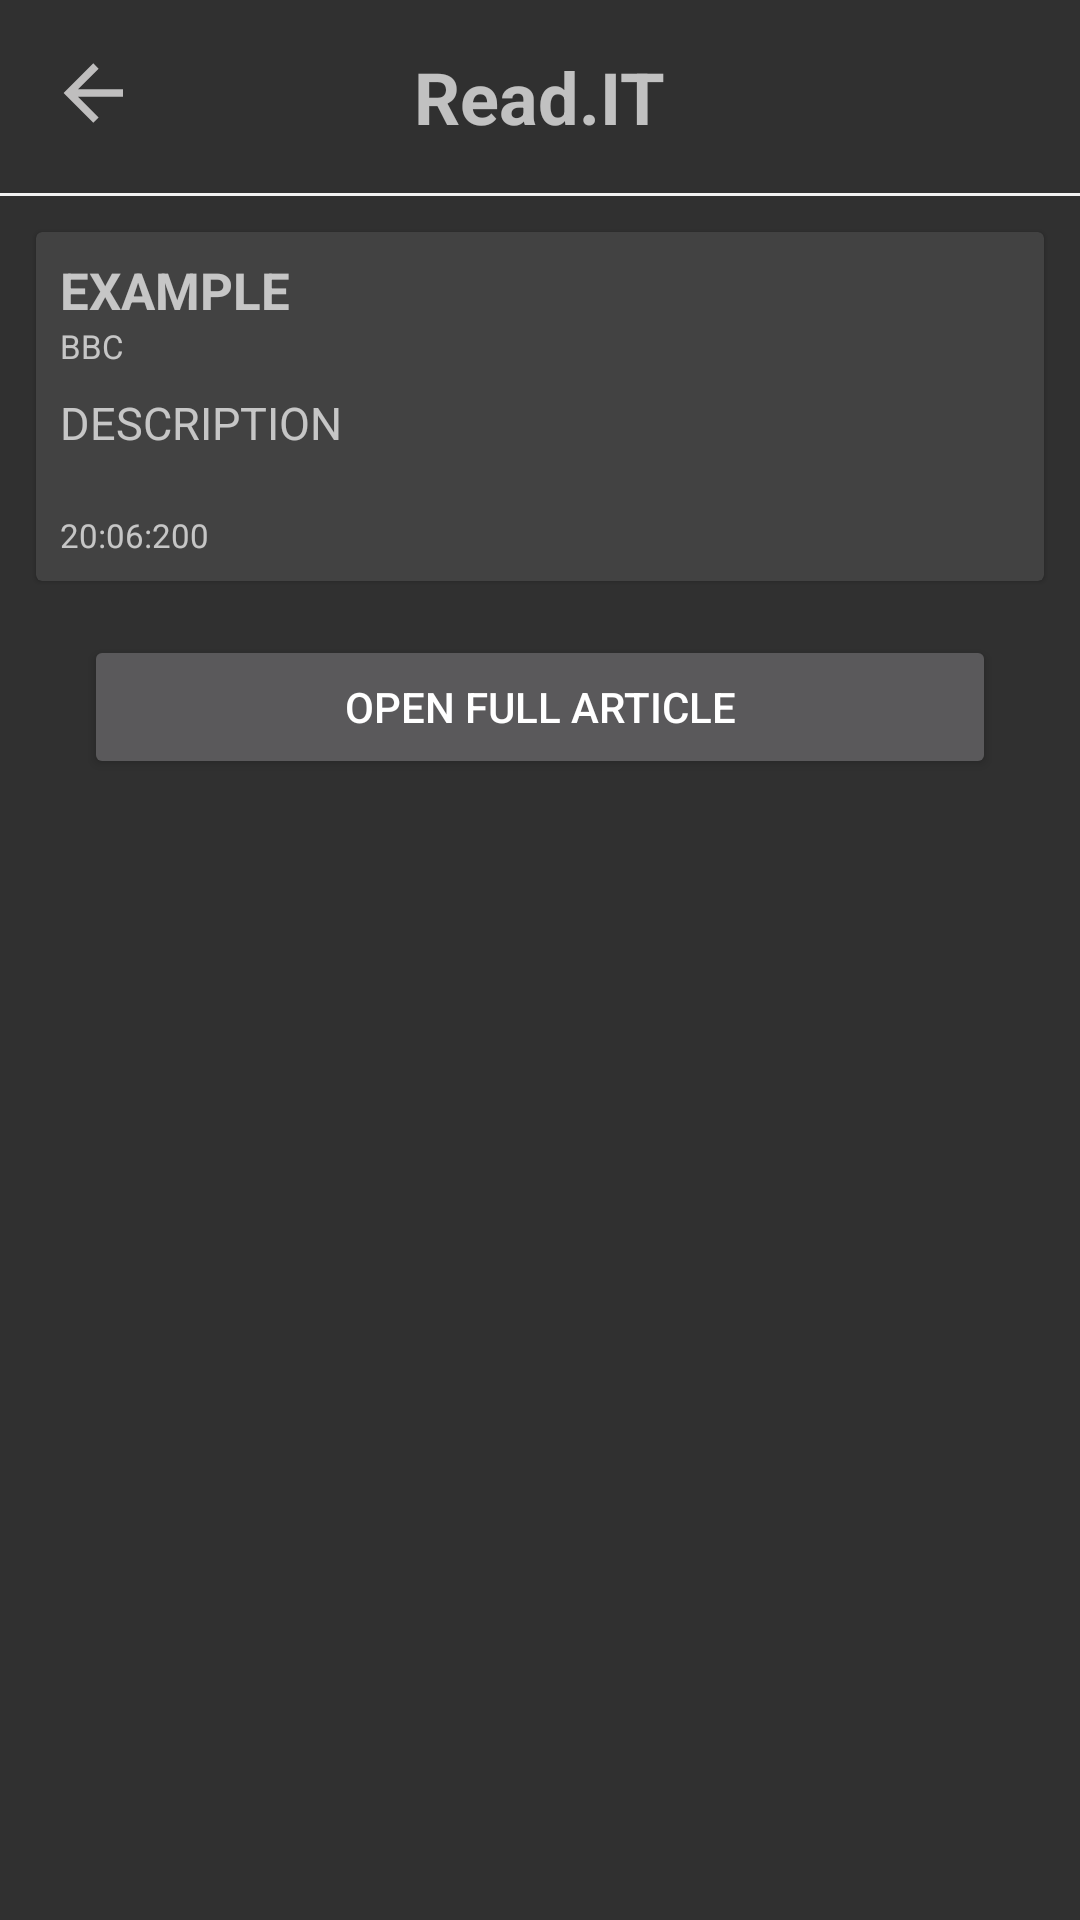

Icon bounding boxes for this 1080 x 1920 phone screenshot, format BBox(x1, y1, x2, y2):
arrow left: BBox(64, 63, 123, 123)
